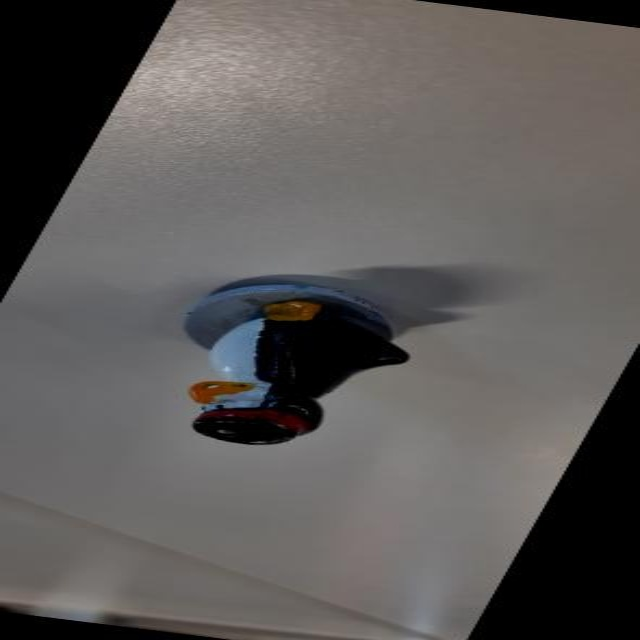Penguin: (84, 256, 468, 484)
